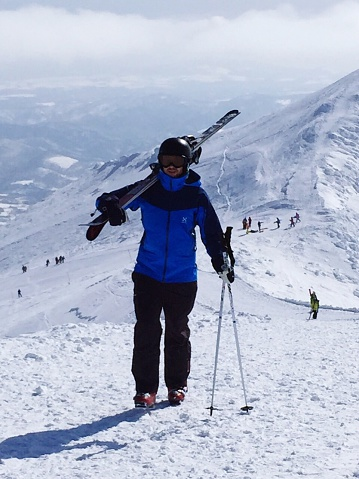em pe: (91, 122, 224, 422)
